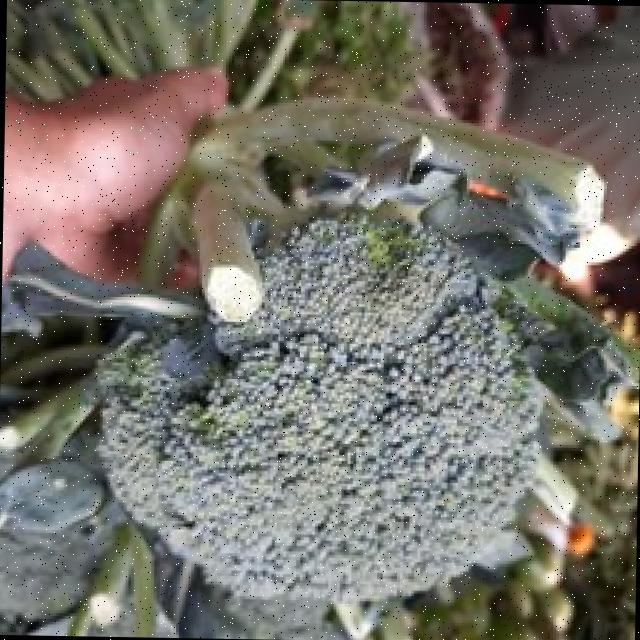Broccoli: (98, 216, 543, 594), (98, 217, 543, 594)
